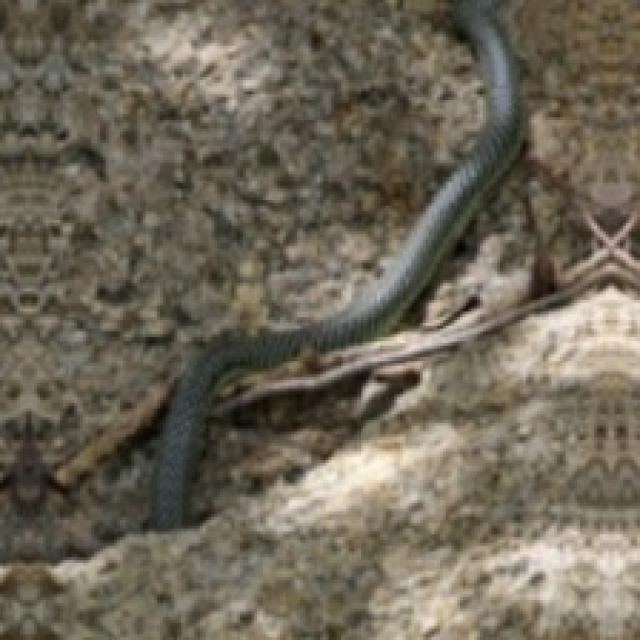paradise tree snake: (151, 0, 520, 526)
